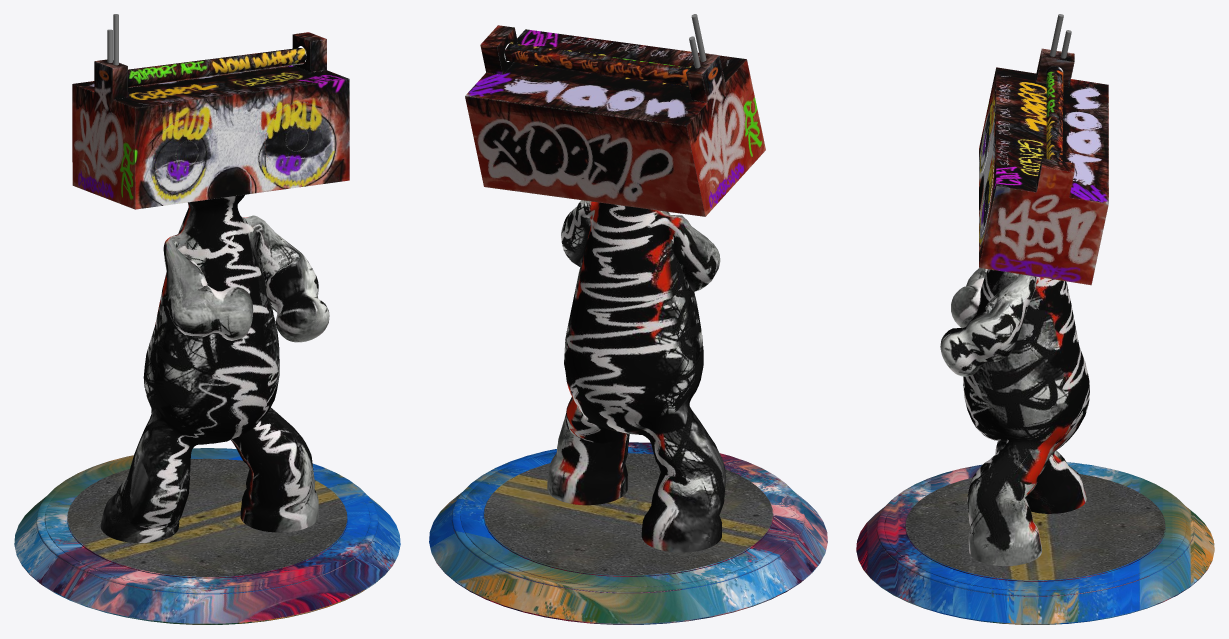
3 views of the same model, side by side, from view 1: azimuth 30°, elevation 25°; view 2: azimuth 150°, elevation 25°; view 3: azimuth 270°, elevation 25° (orthographic). The views are drawn at different scales.
Size of the model in its own units: 1.45 by 2.23 by 1.45.
Materials: 5 (4 with a texture image).
